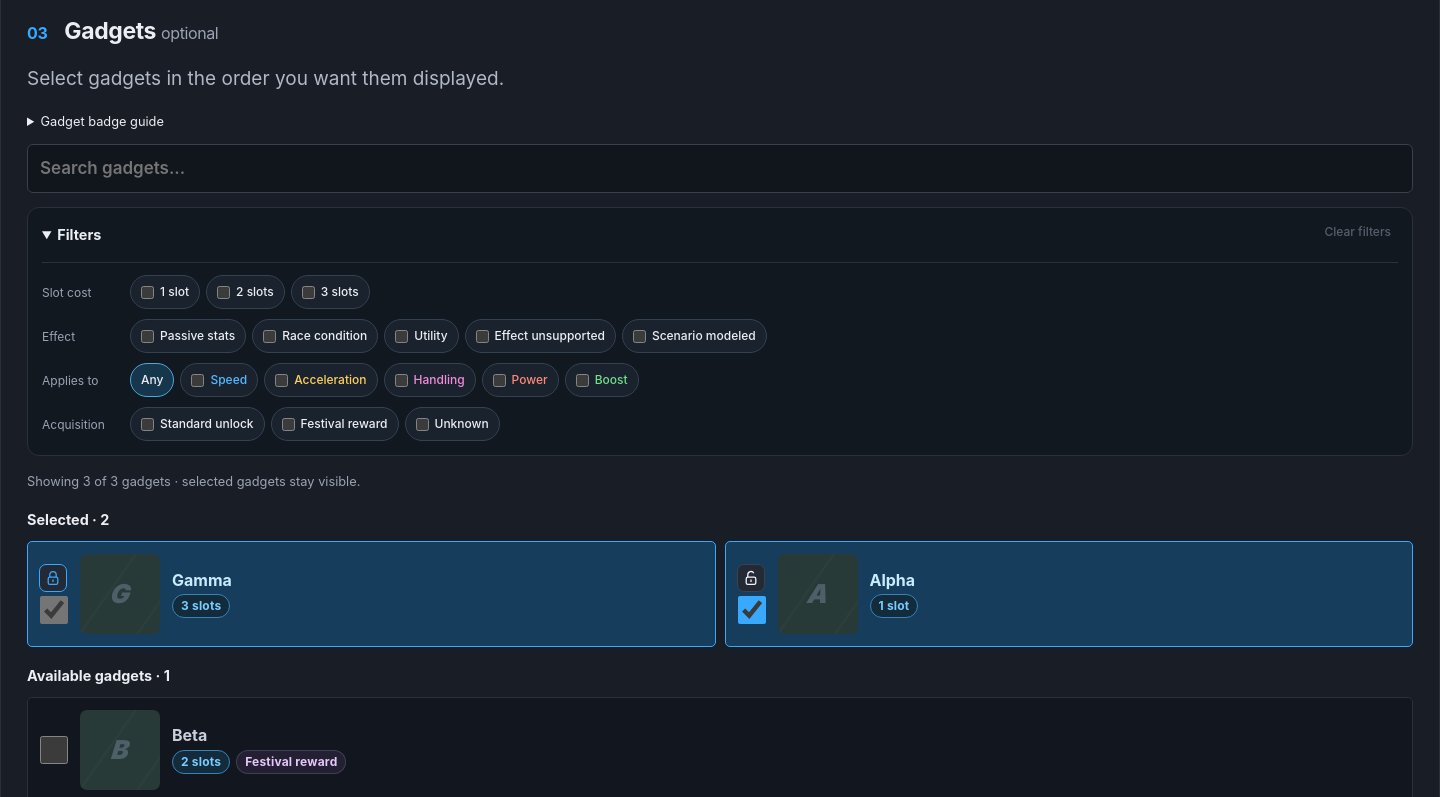
Test case: keeps selected gadgets ordered and unique while search and filters restrict available gadgets
Click the checkbox labelled "1 slot": {"x": 148, "y": 292} [141, 286, 154, 299]
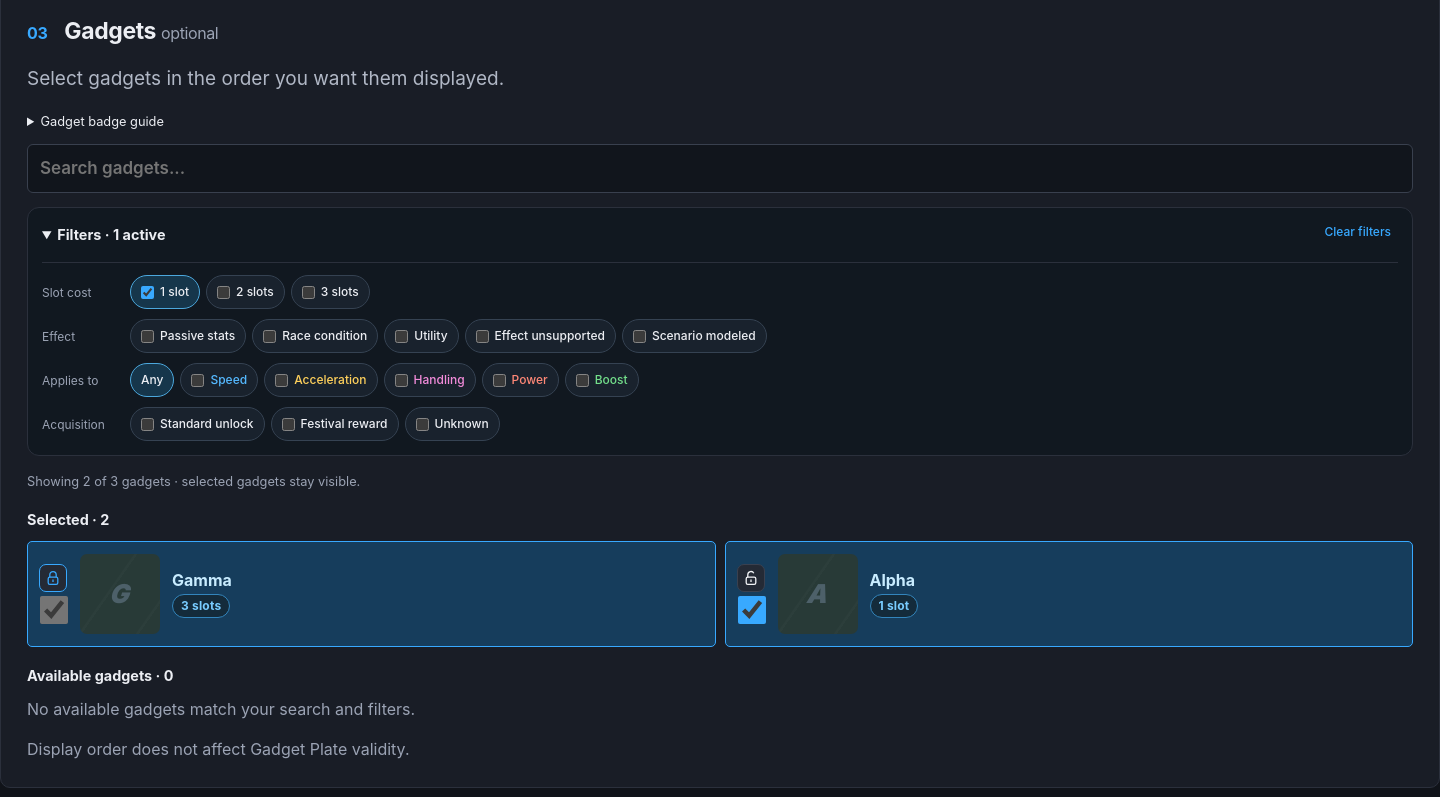
Expected: the text "Showing 2 of 3 gadgets · selected gadgets stay visible." is shown, [27, 474, 360, 489]
In the search field: {"x": 720, "y": 169} [27, 144, 1413, 194], type "BETA"
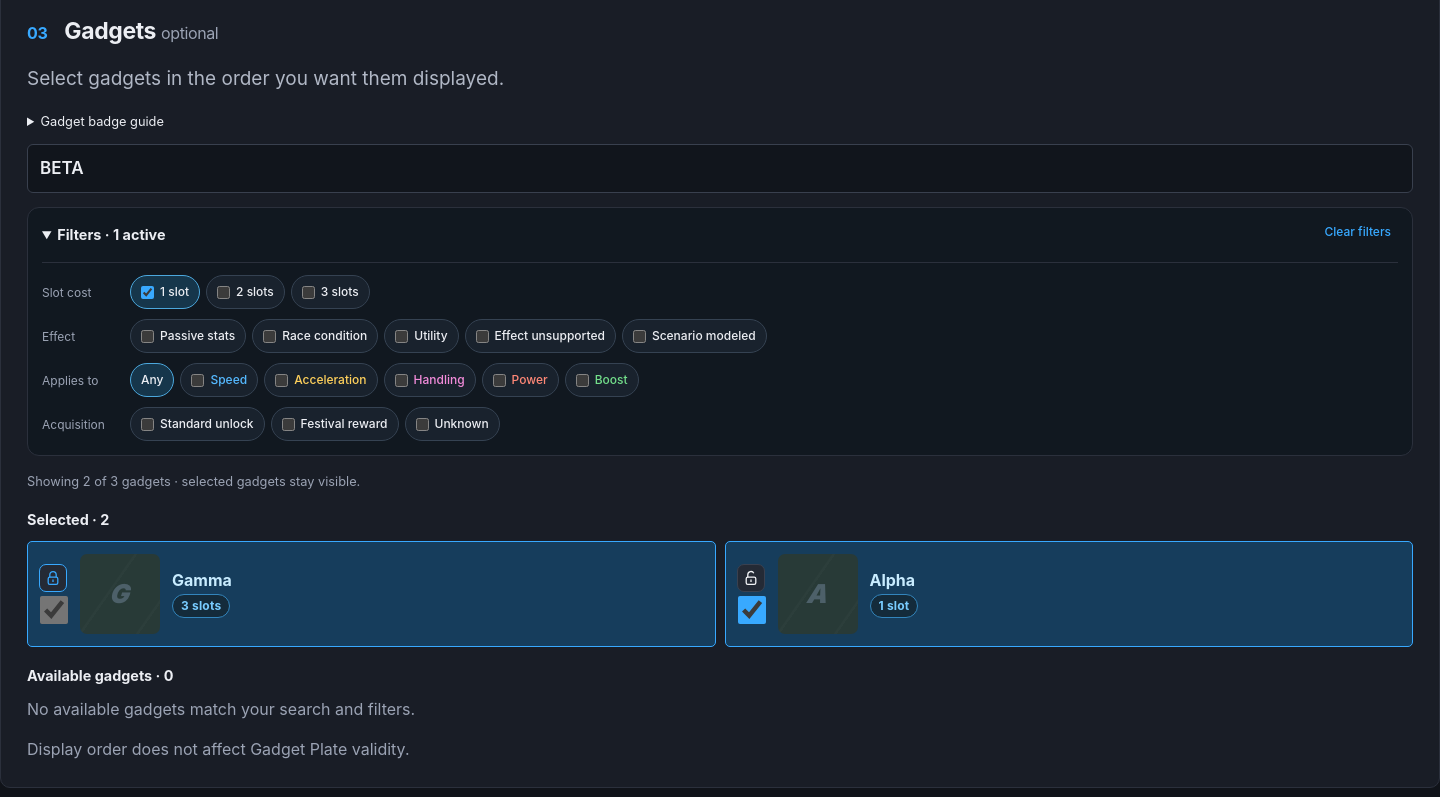
Click the checkbox labelled "2 slots": {"x": 224, "y": 292} [217, 286, 230, 299]
(page scrolled)
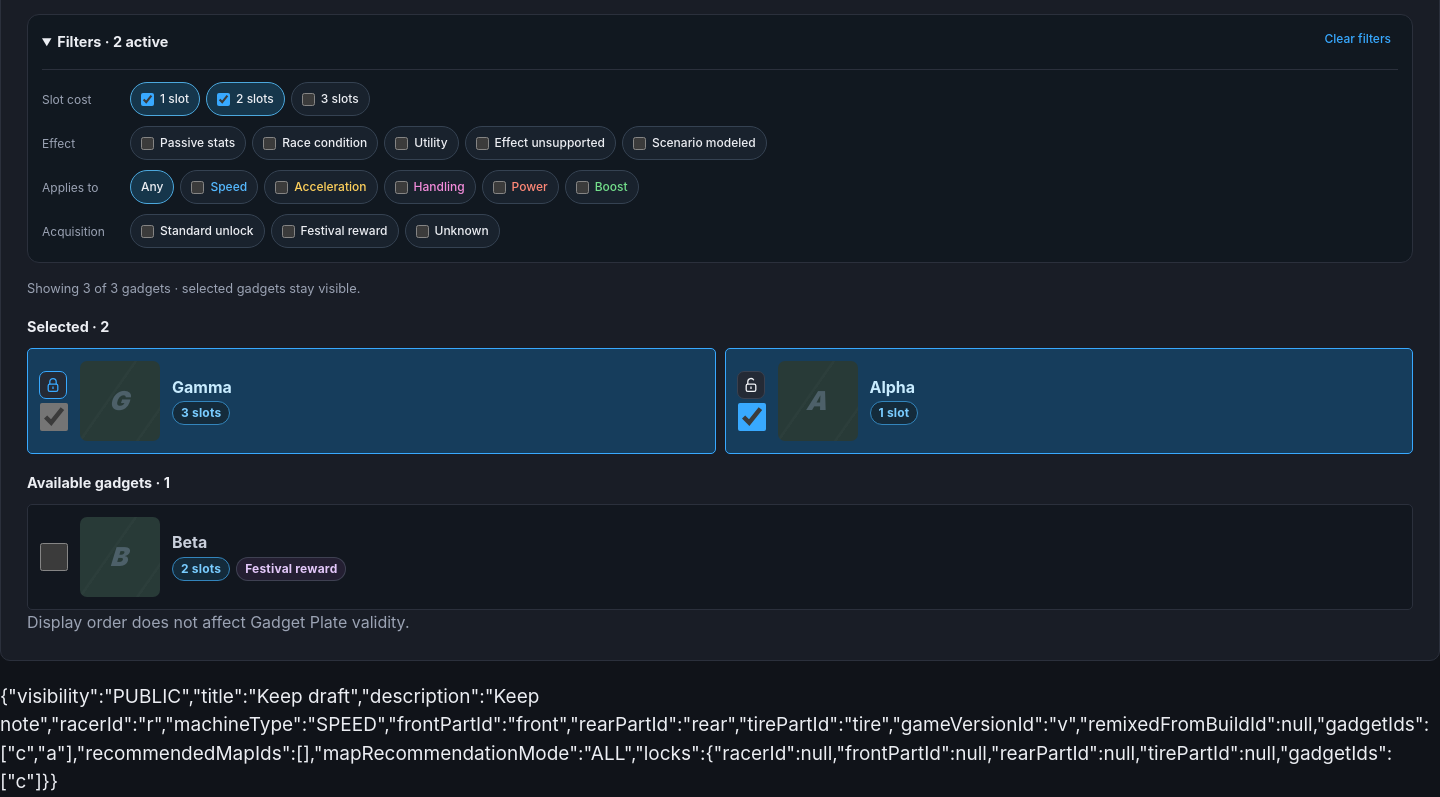
Expected: the checkbox labelled "B Beta 2 slots" is shown, [40, 542, 68, 570]
